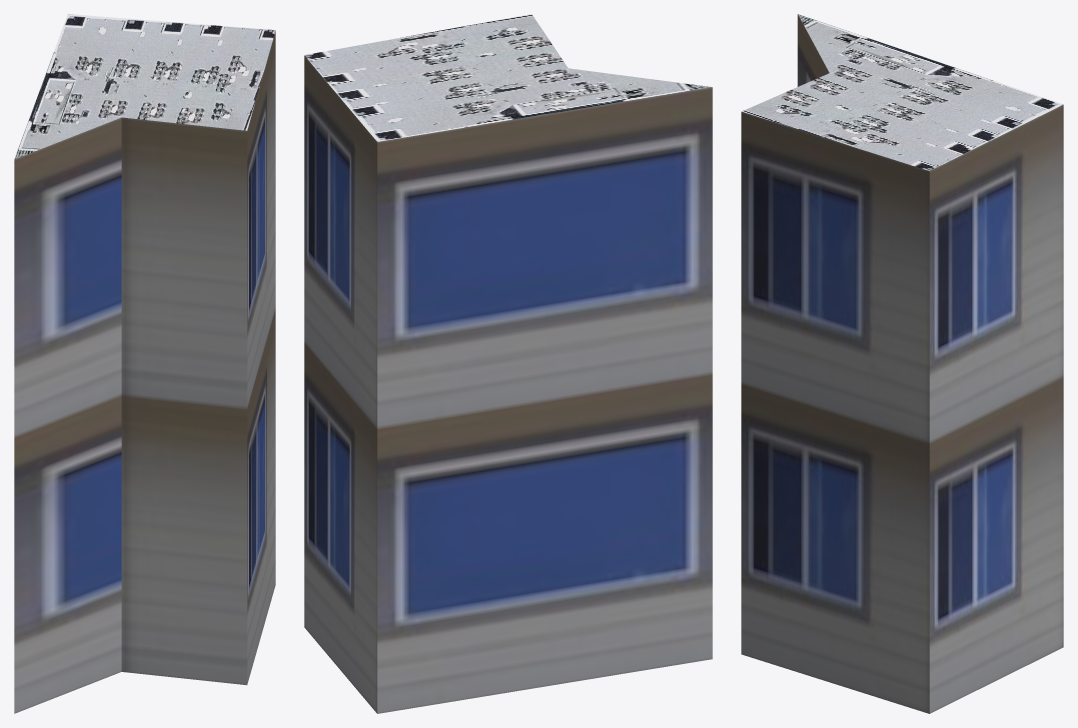
The model's file is ResTex__2915.fbx.
3 renders of one model, left to right at view 1: azimuth 30°, elevation 25°; view 2: azimuth 150°, elevation 25°; view 3: azimuth 270°, elevation 25°, orthographic. The views are drawn at different scales.
Visible parts, largest first — view 1: CityEngineMaterial_23_m, CityEngineMaterial_4_m; view 2: CityEngineMaterial_23_m, CityEngineMaterial_4_m; view 3: CityEngineMaterial_23_m, CityEngineMaterial_4_m.
Part boxes in pixels (bbox=[...]): CityEngineMaterial_23_m: bbox=[14, 31, 275, 713]; CityEngineMaterial_4_m: bbox=[14, 14, 275, 159]; CityEngineMaterial_23_m: bbox=[304, 56, 712, 713]; CityEngineMaterial_4_m: bbox=[304, 14, 712, 141]; CityEngineMaterial_23_m: bbox=[741, 14, 1063, 713]; CityEngineMaterial_4_m: bbox=[742, 14, 1063, 170].
Size of the model in its own units: 3.72 by 6 by 3.23.
Materials: 2 (2 with a texture image).
